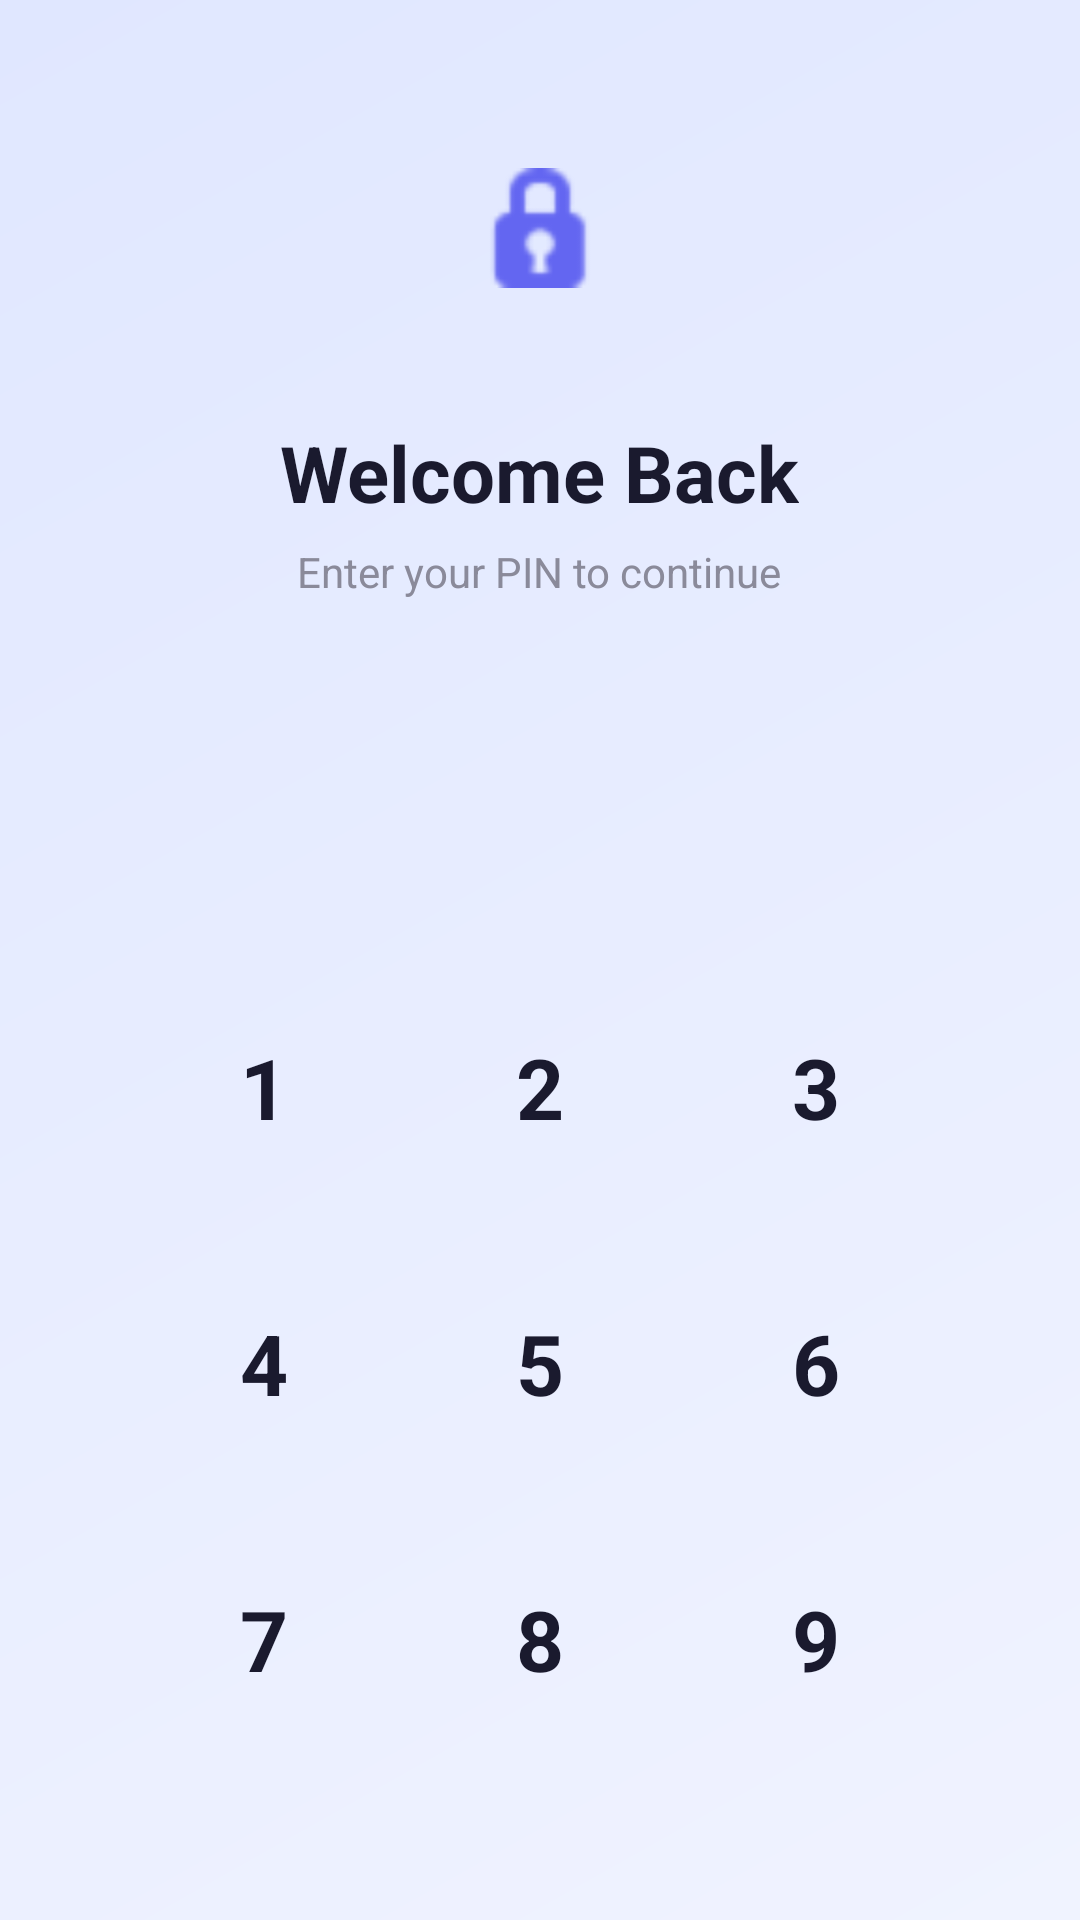

Where to tap for icons on this 1080 × 1920 app screen, as (x=x, y=y):
secure: (x=539, y=228)
